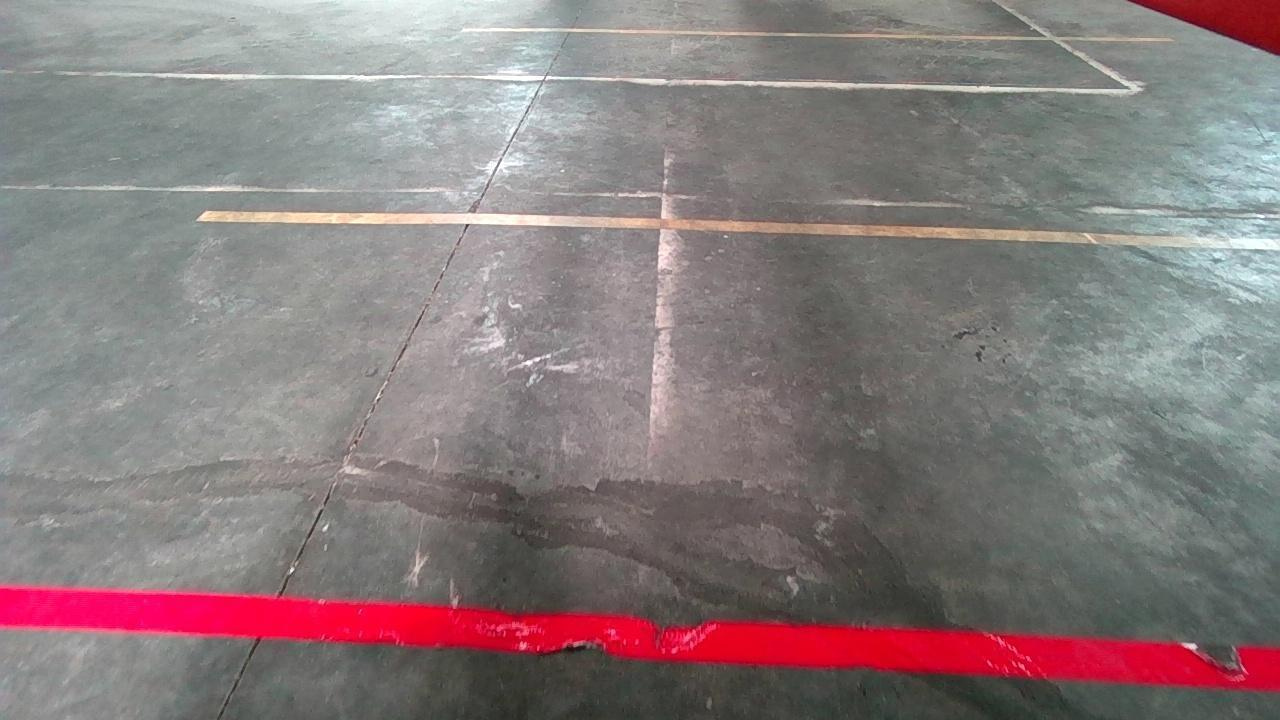red_line: (2, 581, 1280, 688)
yellow_line: (193, 210, 1280, 248)
